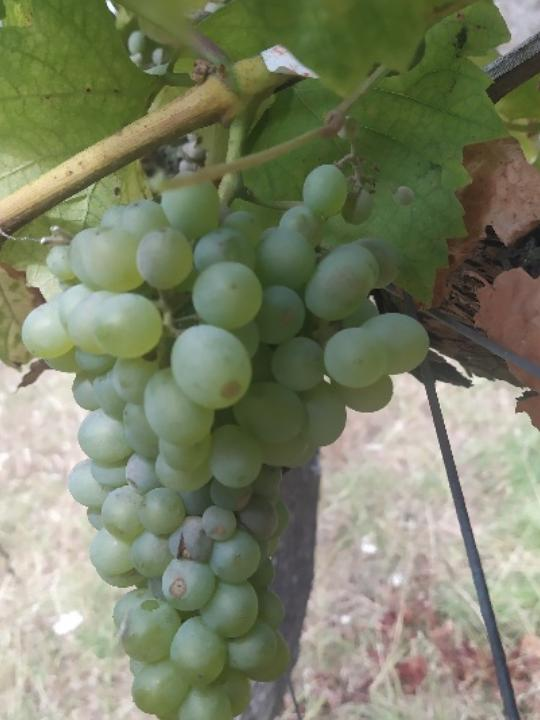grape: (19, 161, 434, 720)
